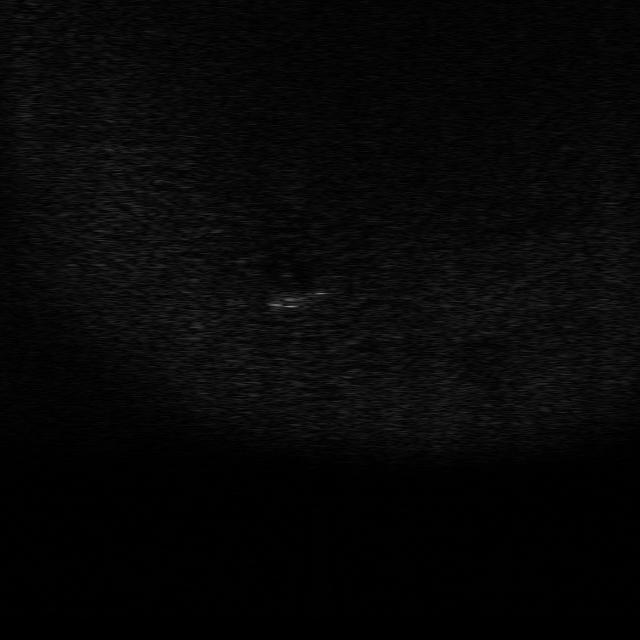plane: (258, 283, 338, 317)
